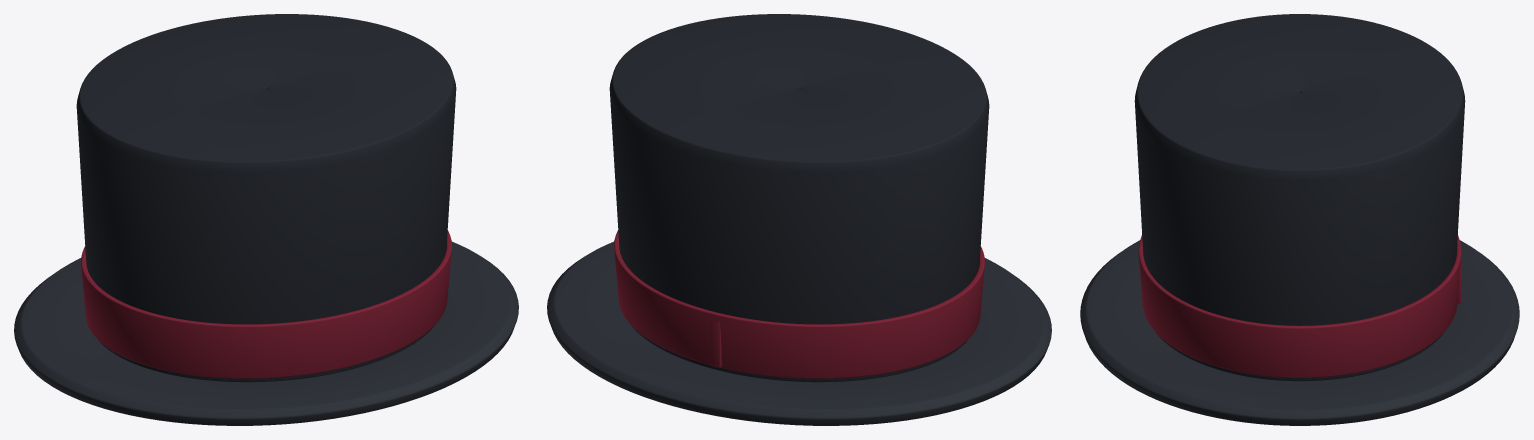
File: TopHat.glb
3 views of the same model, side by side, from view 1: azimuth 30°, elevation 25°; view 2: azimuth 150°, elevation 25°; view 3: azimuth 270°, elevation 25° (orthographic). The views are drawn at different scales.
Parts seen in each view (by area): view 1: Crown shell, Oval rounded brim, Burgundy satin band; view 2: Crown shell, Oval rounded brim, Burgundy satin band, Rear ribbon seam; view 3: Crown shell, Oval rounded brim, Burgundy satin band.
Boxes of the visible parts, x1,y1,x2,y2 form: Crown shell: [76, 14, 456, 382]; Oval rounded brim: [14, 241, 518, 425]; Burgundy satin band: [81, 230, 451, 378]; Crown shell: [609, 14, 989, 382]; Oval rounded brim: [547, 241, 1051, 425]; Burgundy satin band: [614, 230, 984, 378]; Rear ribbon seam: [711, 319, 721, 367]; Crown shell: [1134, 14, 1465, 381]; Oval rounded brim: [1080, 240, 1519, 425]; Burgundy satin band: [1138, 235, 1461, 377].
Bounding box in the file's own units: 0.7289 × 0.371 × 0.6414.
